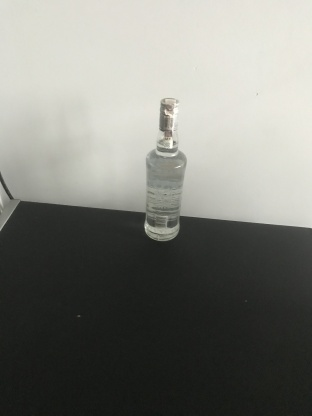nakretka: (157, 95, 180, 133)
